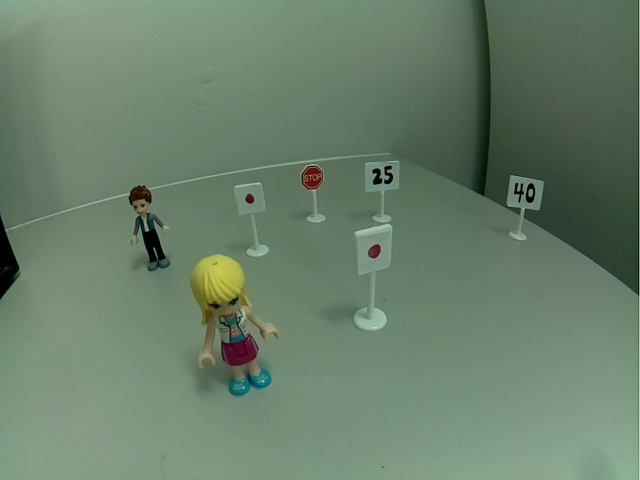people: (187, 250, 280, 399), (123, 184, 174, 273)
red light: (355, 225, 394, 274), (233, 181, 266, 217)
speed 25: (363, 159, 402, 193)
speed 40: (505, 173, 544, 212)
stop: (299, 162, 327, 192)
